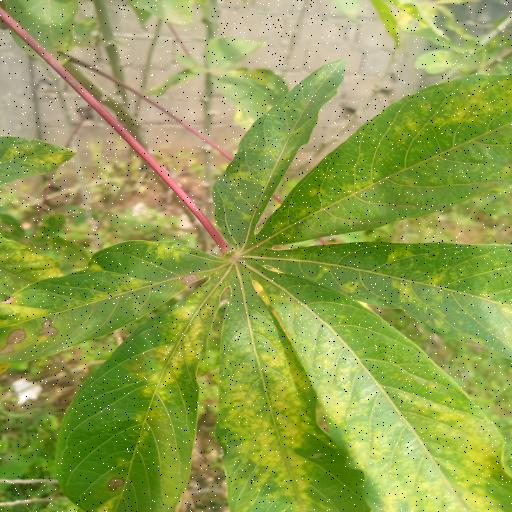Cassava_Mosaic: (0, 57, 512, 512)
